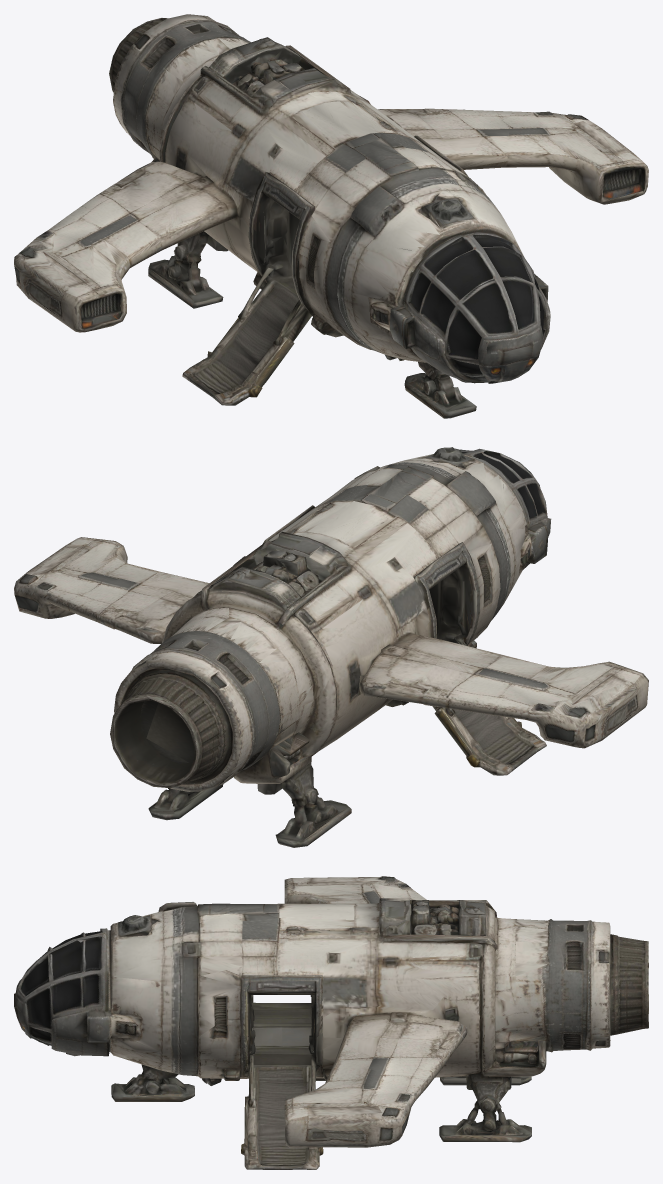
File: freighter.glb
3 renders of one model, top to bottom at view 1: azimuth 30°, elevation 25°; view 2: azimuth 150°, elevation 25°; view 3: azimuth 270°, elevation 25°, orthographic. The views are drawn at different scales.
Bounding box in the file's own units: 0.9151 × 0.3582 × 0.9994.
1 material, 1 textured.
